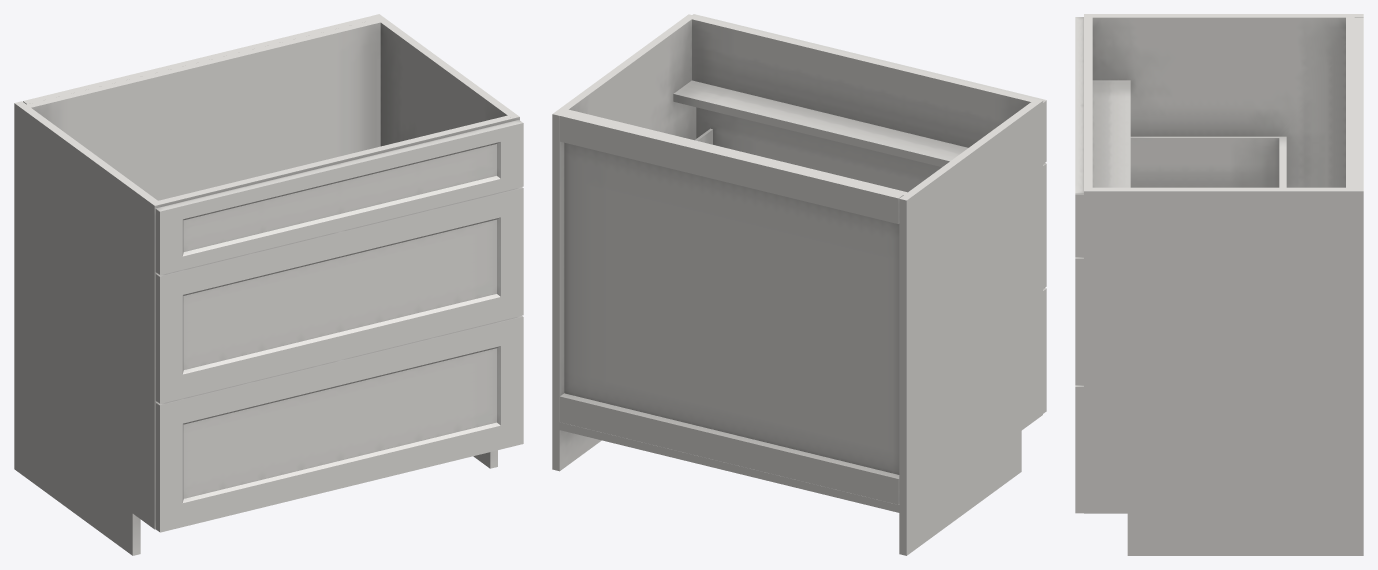
File: cooktop-2-drawer-base-doors-on.glb
3 renders of one model, left to right at view 1: azimuth 30°, elevation 25°; view 2: azimuth 150°, elevation 25°; view 3: azimuth 270°, elevation 25°, orthographic. The views are drawn at different scales.
Parts seen in each view (by area): view 1: part_12, part_1; view 2: part_1, part_12; view 3: part_1, part_0, part_12.
Boxes of the visible parts, x1,y1,x2,y2 form: part_12: (155,120,523,532); part_1: (14,14,519,555); part_1: (552,14,1042,555); part_12: (692,14,1046,413); part_1: (1084,14,1363,555); part_0: (1130,136,1286,187); part_12: (1075,17,1083,513).
Bounding box in the file's own units: 0.9144 × 0.8763 × 0.6287.
Materials: 3 (2 with a texture image).
